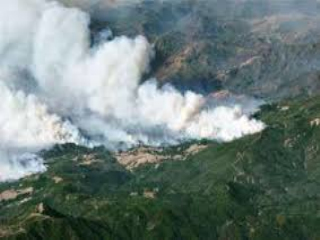smoke: (8, 8, 272, 163)
